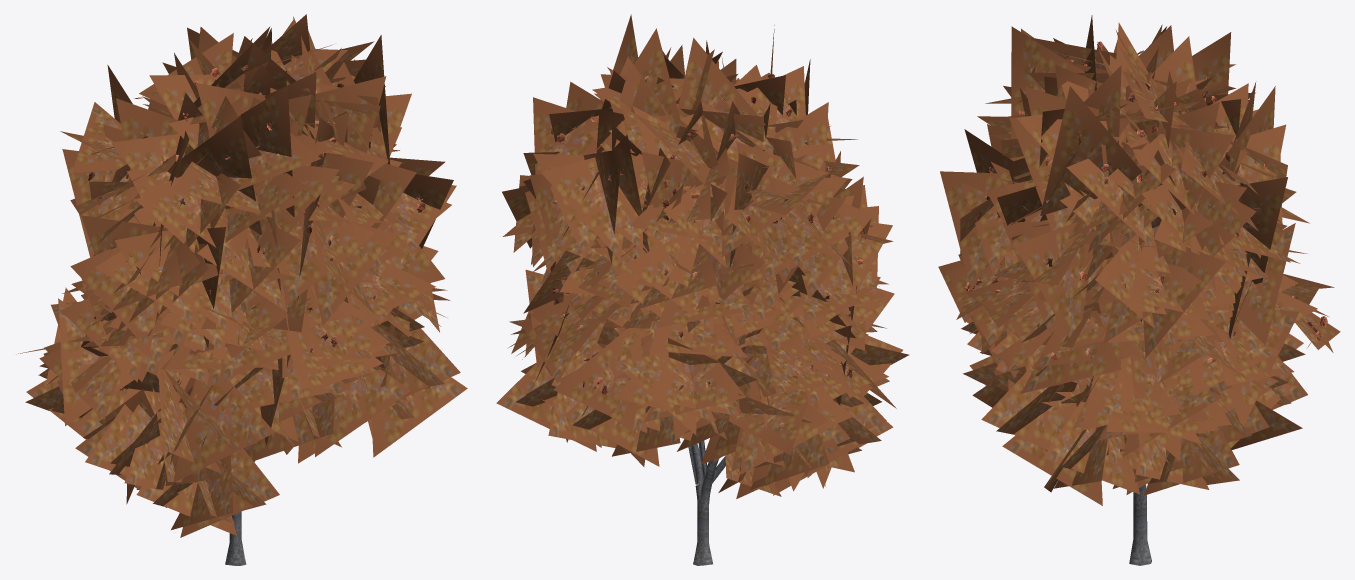
The model's file is Sorbus_Aria_Autumn_Adult.glb.
3 renders of one model, left to right at view 1: azimuth 30°, elevation 25°; view 2: azimuth 150°, elevation 25°; view 3: azimuth 270°, elevation 25°, orthographic. The views are drawn at different scales.
Visible parts, largest first — view 1: Sorbus_Aria_Autumn_Adult__LOD3; view 2: Sorbus_Aria_Autumn_Adult__LOD3; view 3: Sorbus_Aria_Autumn_Adult__LOD3.
Boxes of the visible parts, <box> form: Sorbus_Aria_Autumn_Adult__LOD3: <box>16,14,467,565</box>; Sorbus_Aria_Autumn_Adult__LOD3: <box>496,14,909,565</box>; Sorbus_Aria_Autumn_Adult__LOD3: <box>938,15,1340,565</box>.
Size of the model in its own units: 6.78 by 9.06 by 6.06.
3 materials, 3 textured.
